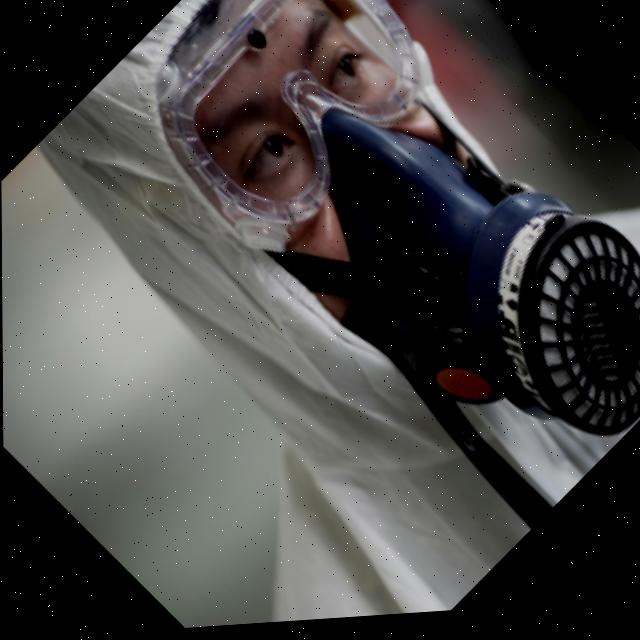Mask: (229, 24, 640, 546)
